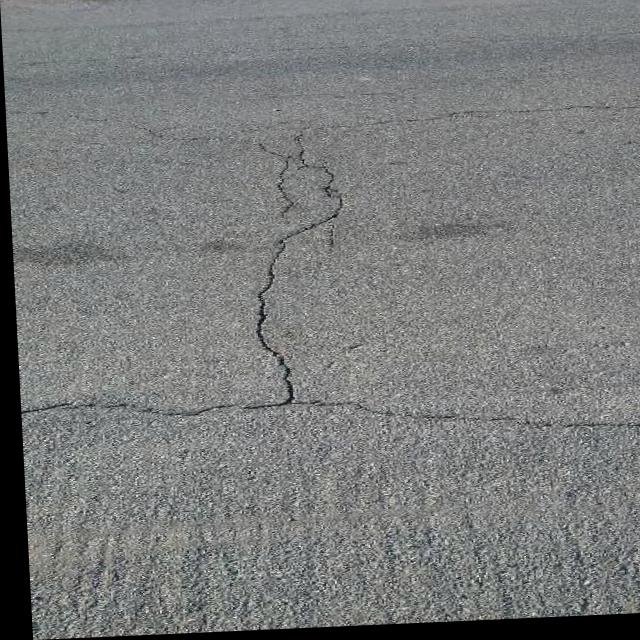Crack: (16, 371, 640, 462), (226, 143, 367, 411)
